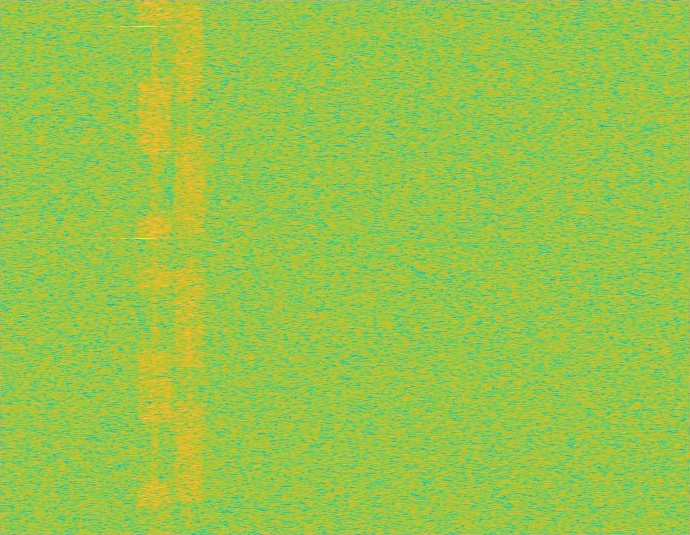5G: (173, 0, 207, 534)
DSSS: (151, 0, 159, 534), (187, 0, 192, 534)
LTE: (138, 0, 173, 534)
Radar: (138, 0, 152, 534)
